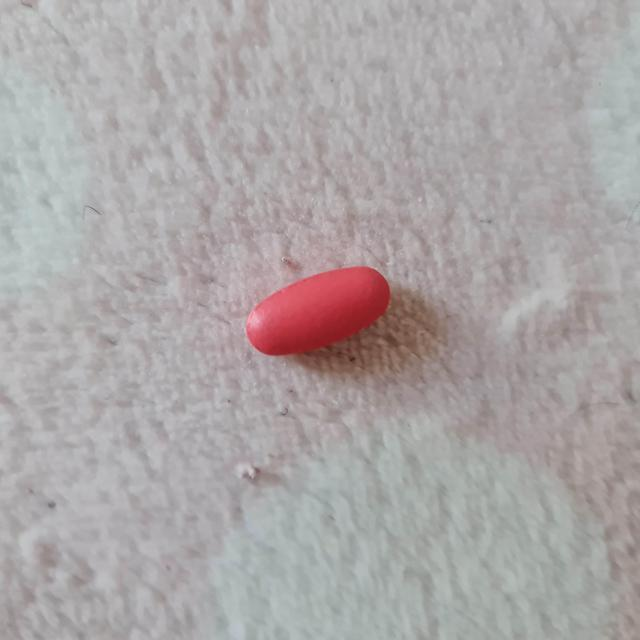pill: (248, 266, 390, 356)
